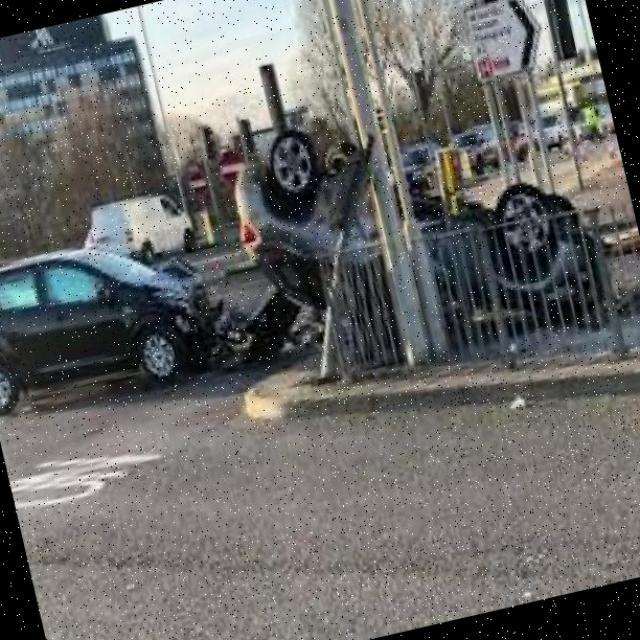accident: (0, 65, 611, 447)
